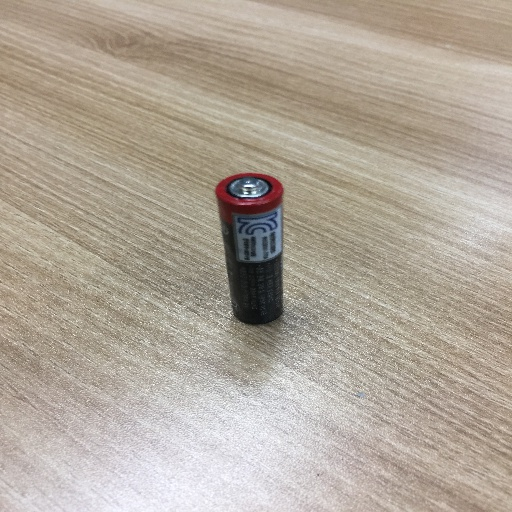Battery_0: (212, 169, 308, 336)
